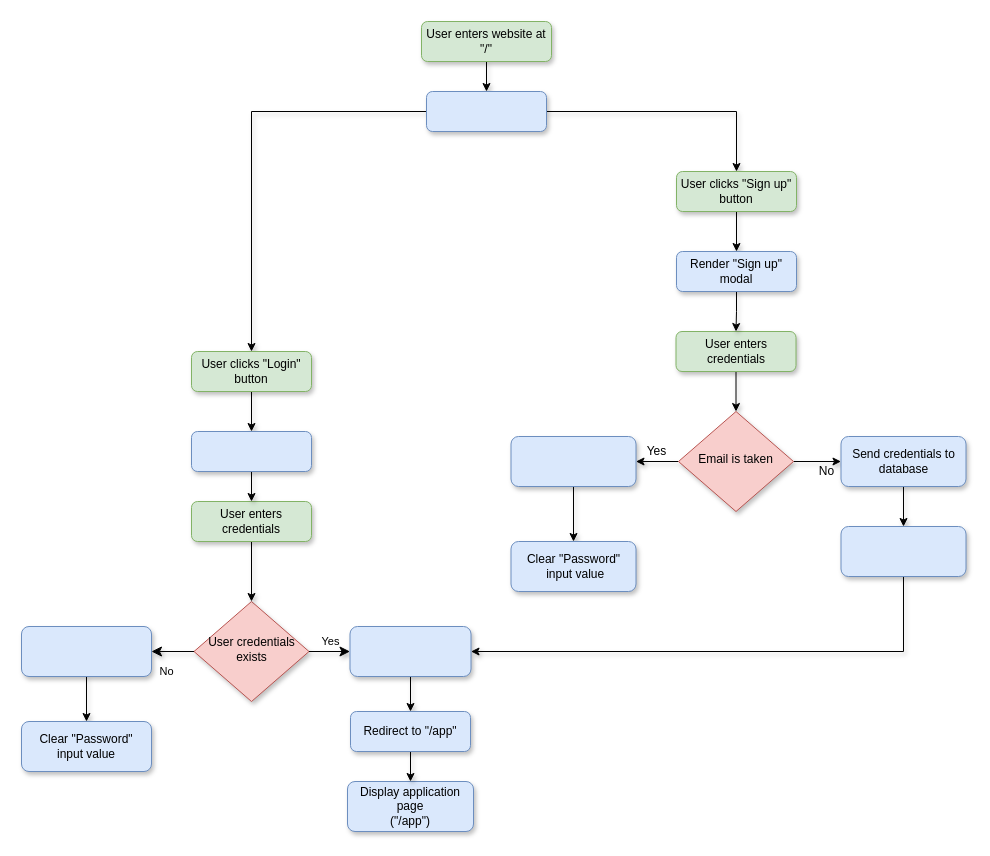
Some shapes in this 990 by 856 pixel diagram are drawn without their labels. The centre of each missing label's shape, as x and y in pixels:
Call "Login" function in backend with credentials: the point at 411,653
Close down modal: the point at 904,553
Display homepage (Default): the point at 487,112
Render "Login" modal: the point at 252,452
Render text that says "Email is already taken": the point at 574,463
Render text that says "Wrong Email or Password": the point at 87,653
